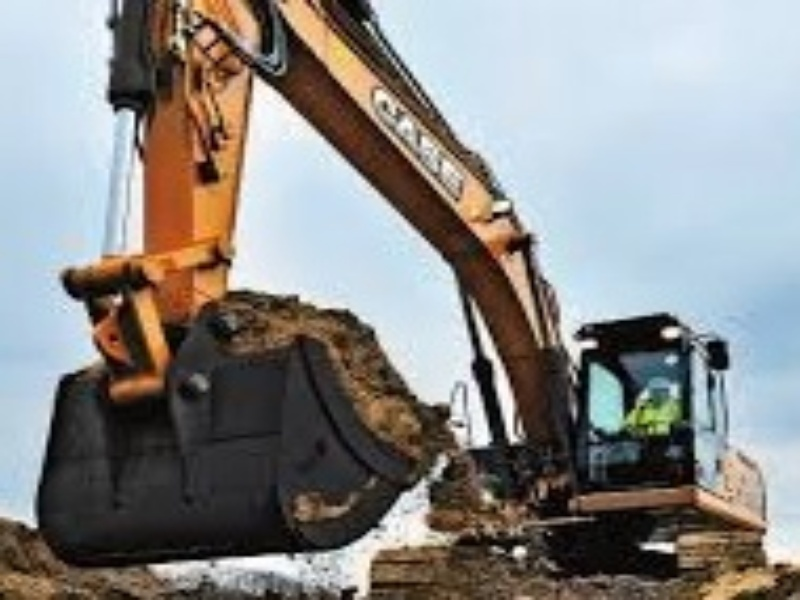wajueji: (452, 260, 788, 600)
